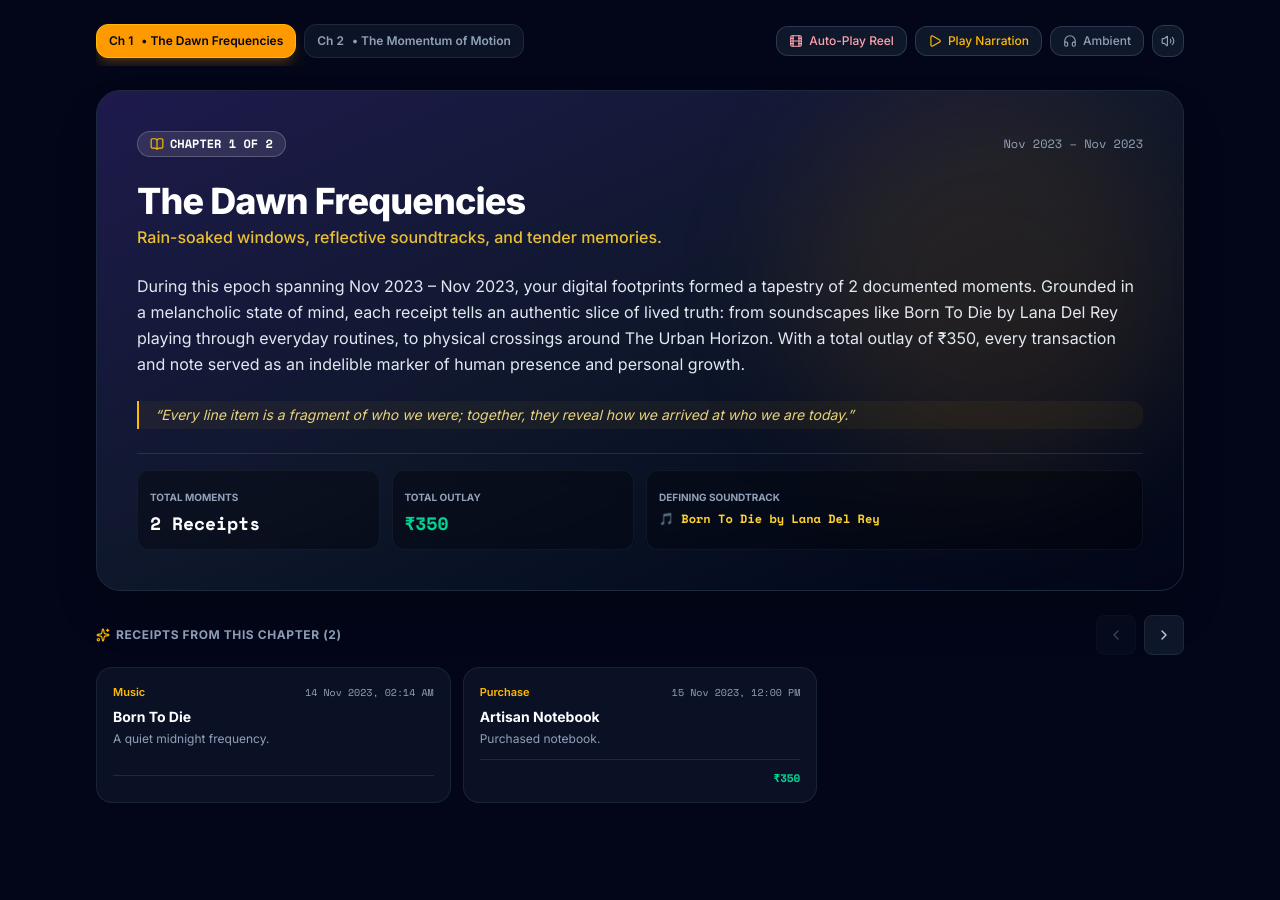
Test case: ChapterStoryView Component (FAIE Parameters 4 & 6) › switches chapters when clicking chapter navigation tab
Click the button "Ch 2 • The Momentum of Motion" at (414, 41), box top-left (304, 24), bottom-right (524, 58)
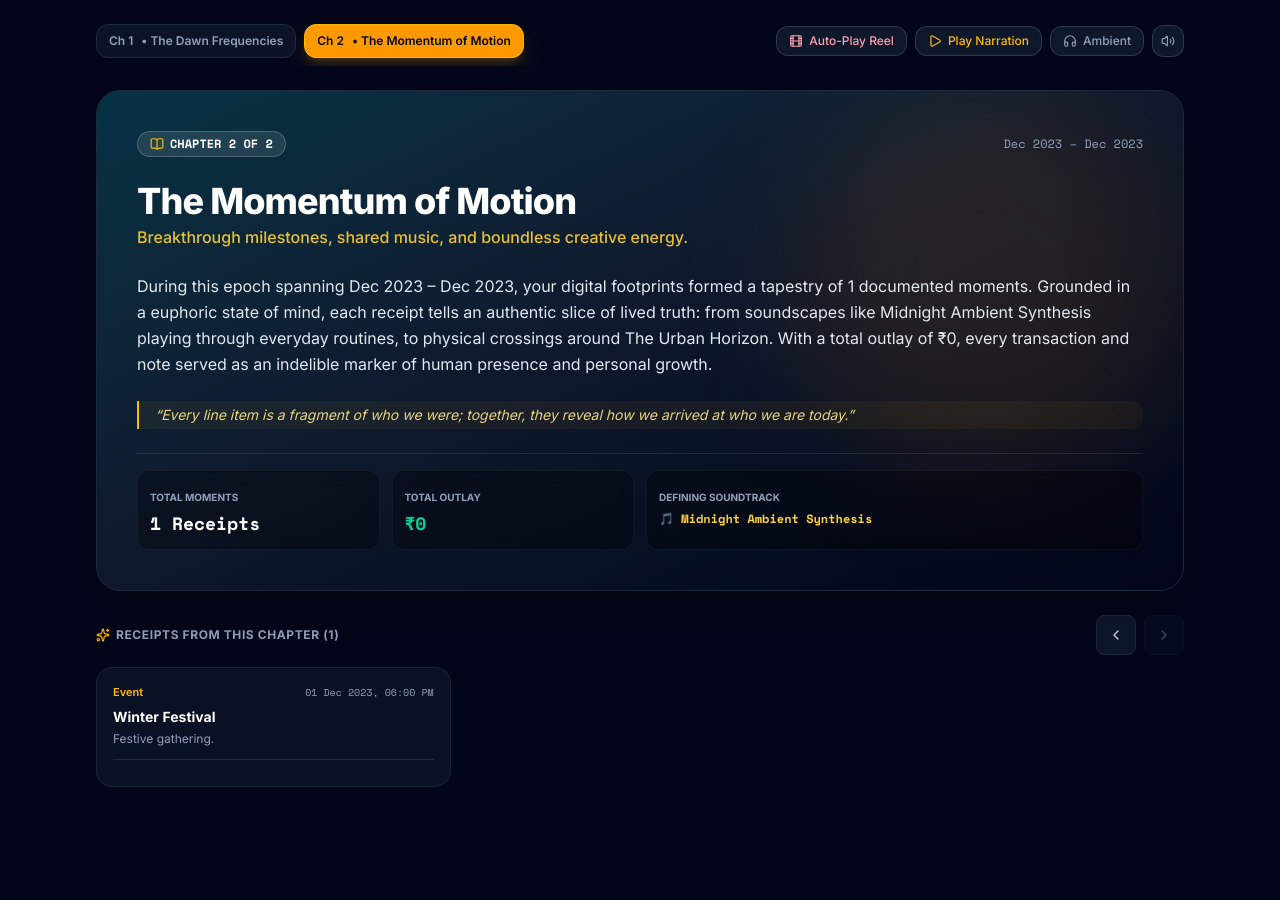
expect the text "CHAPTER 2 OF 2" is shown: met, box top-left (137, 131), bottom-right (286, 157)
